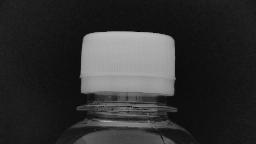Loose Cap: (73, 74, 183, 115)
